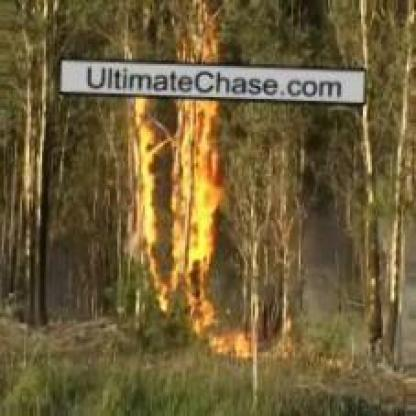fire: (112, 16, 284, 360)
